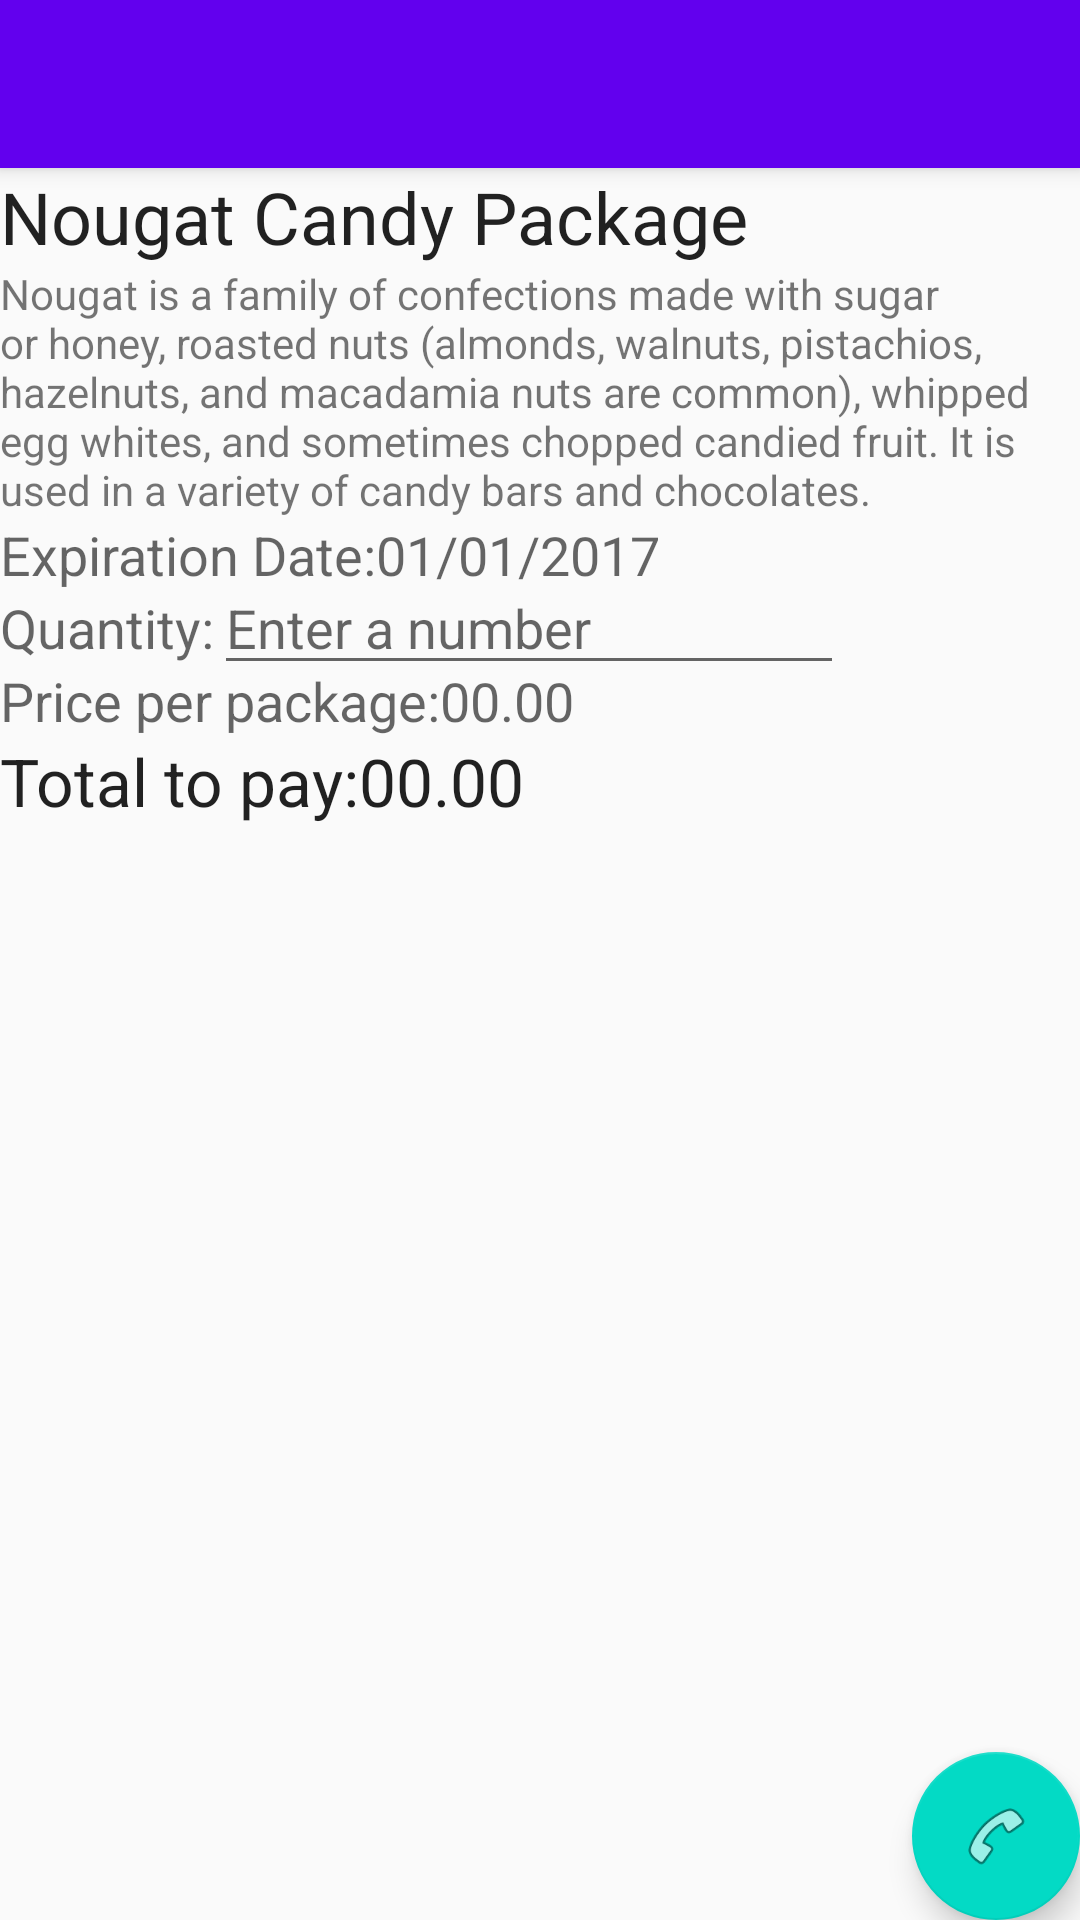

Icon click points for this 1080*1920 phone screenshot, format (x=x, y=y):
call: (x=996, y=1836)
